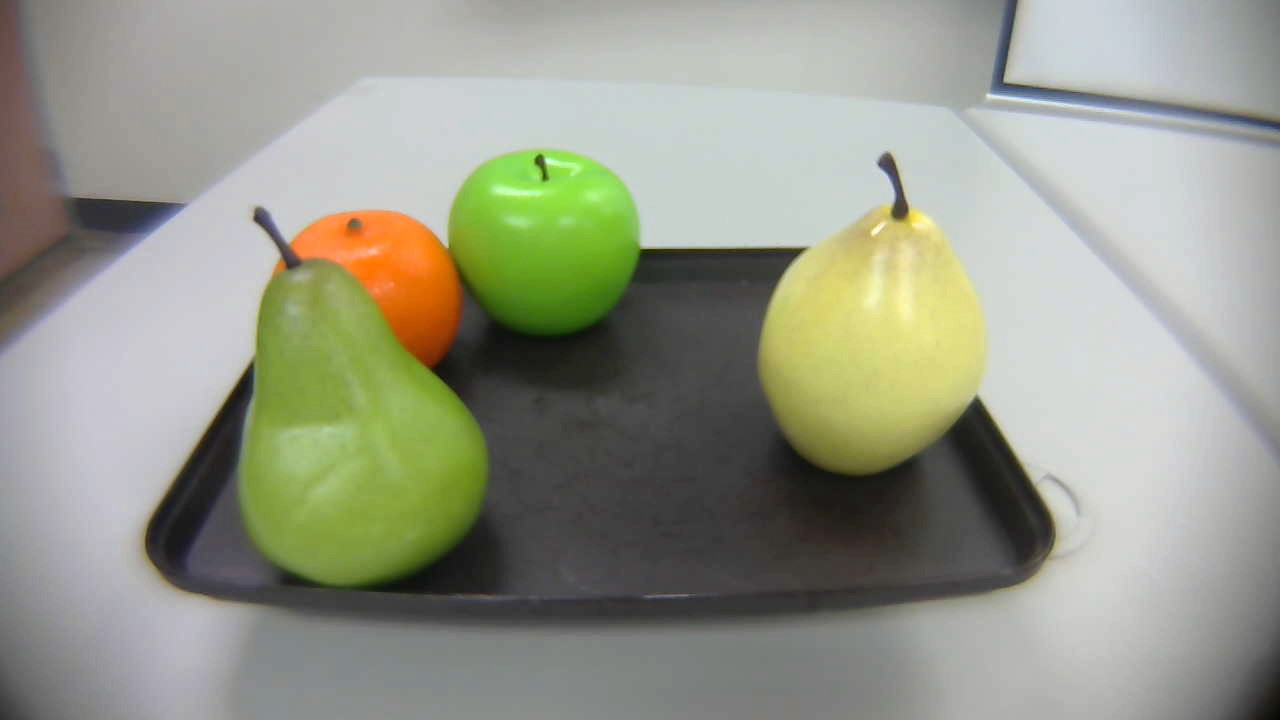green apple: (442, 143, 647, 353)
green pear: (227, 208, 495, 586)
orange: (237, 201, 465, 381)
western pear: (733, 136, 995, 486)
